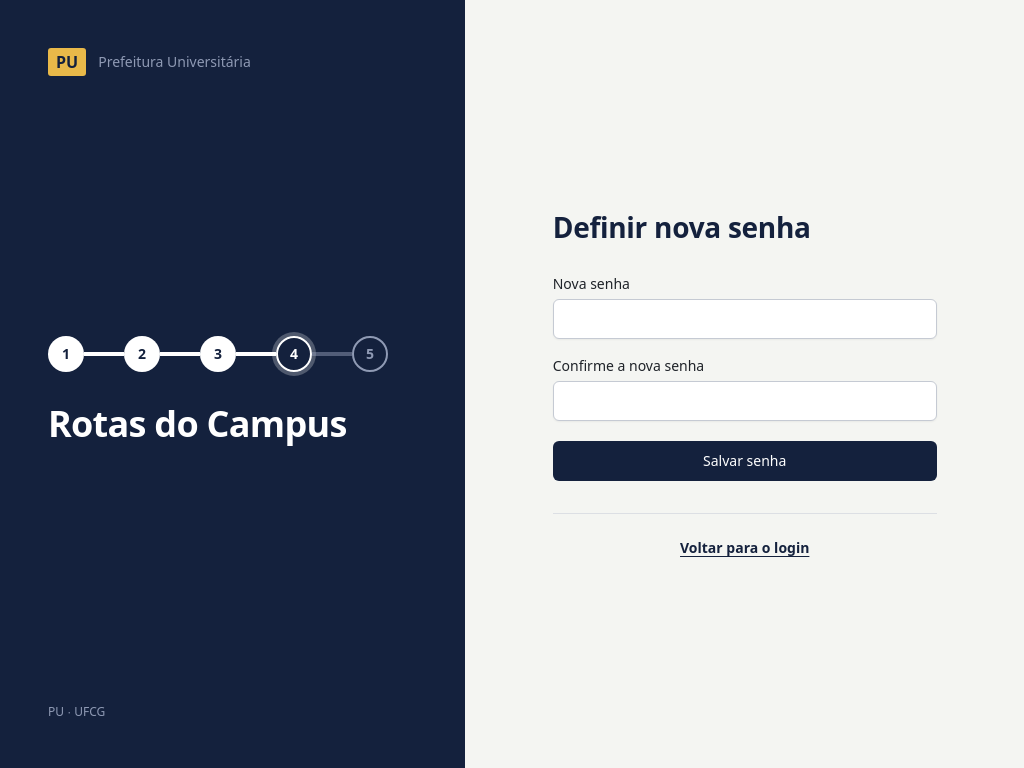
Scenario: ResetPasswordPage (RF03, RF05 invite) › explains an expired link
In the password field labelled "Nova senha": {"x": 745, "y": 319} [553,299,937,339], type "senha-forte-1"
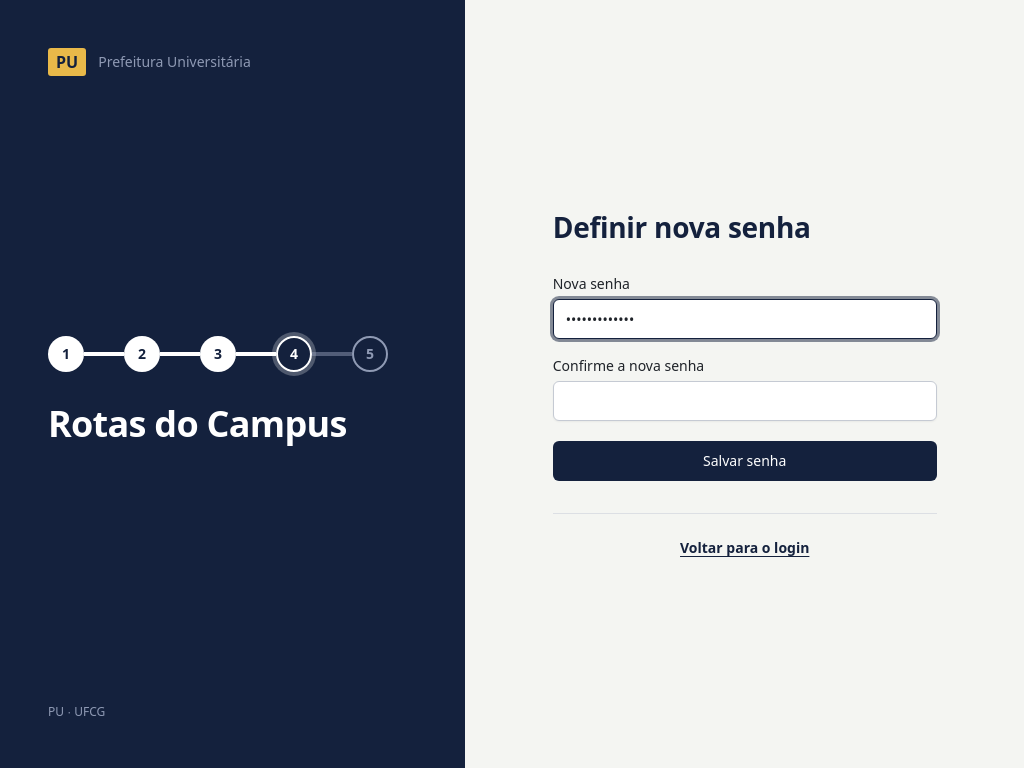
In the password field labelled "Confirme a nova senha": {"x": 745, "y": 401} [553,381,937,421], type "senha-forte-1"
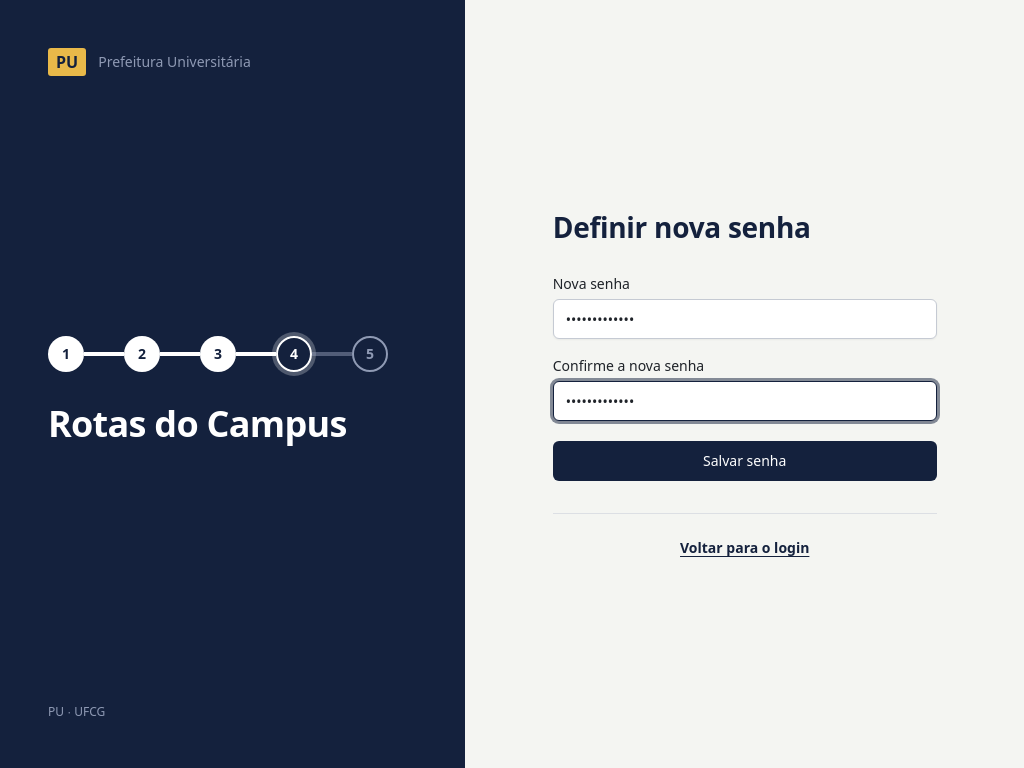
Click the button "Salvar senha": {"x": 745, "y": 461} [553,441,937,481]
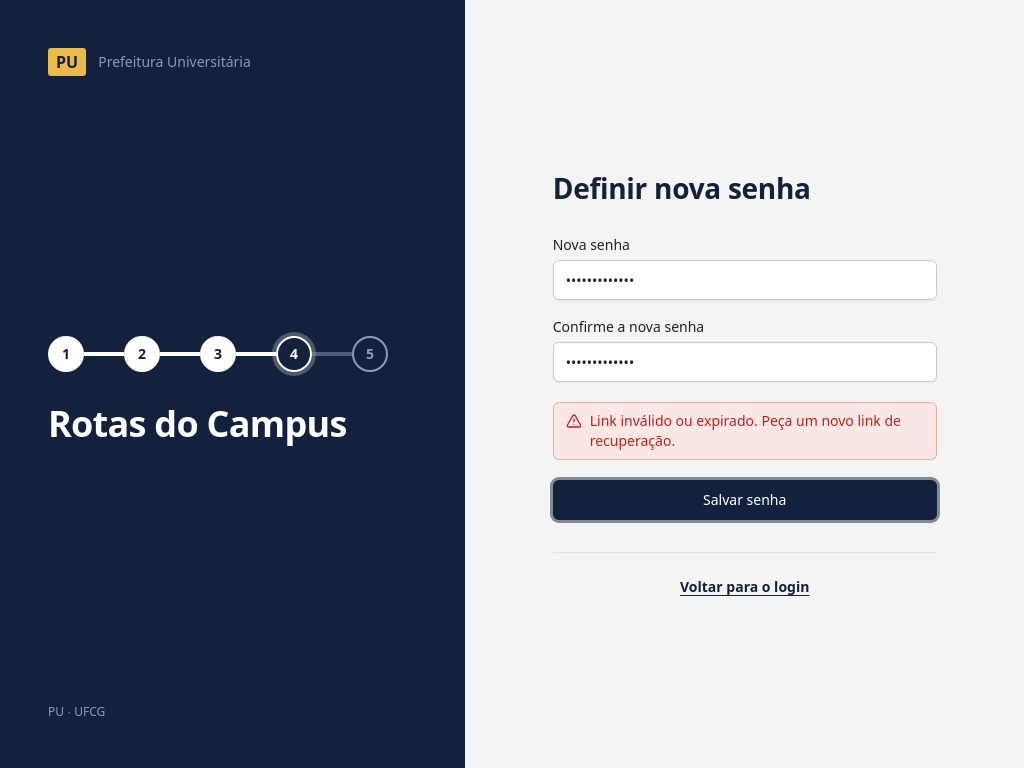
expect the message shows "Link inválido ou expirado": met, box [590,411,901,450]
